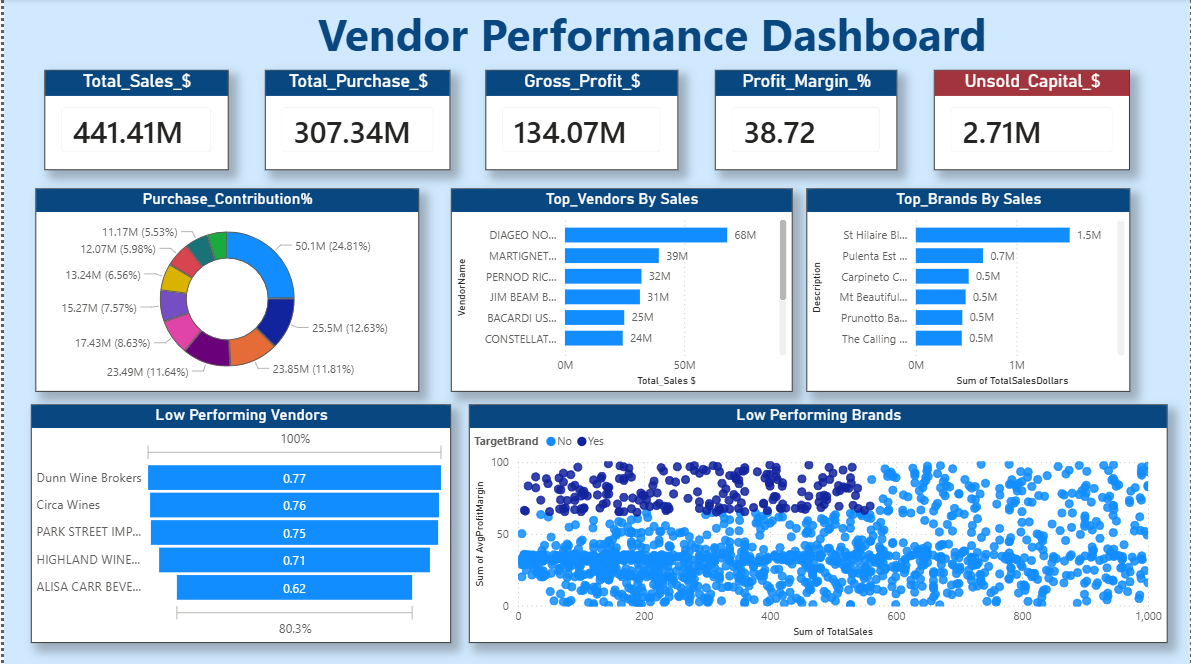

This screenshot's page, from the dashboard's own definition file:
{"tool":"powerbi","page":{"name":"Vendor_Performance_Dashboard","canvas":[1280,720],"ordinal":0},"visuals":[{"type":"cardVisual","title":"Total_Sales_$","fields":{"Data":["Sum(BrandPerformance.TotalSales)"]},"box":[43.5,77.5,198.4,107.7],"z":0},{"type":"cardVisual","title":"Total_Purchase_$","fields":{"Data":["Sum(PurchaseContribution.TotalPurchaseDollars)"]},"box":[281.6,77.5,200.3,107.7],"z":1000},{"type":"cardVisual","title":"Gross_Profit_$","fields":{"Data":["Sum(Vendor_Sales_Summary.GrossProfit)"]},"box":[519.7,77.5,207.9,107.7],"z":2000},{"type":"cardVisual","title":"Profit_Margin_%","fields":{"Data":["Avg(Vendor_Sales_Summary.ProfitMargin)"]},"box":[767.2,77.5,196.5,107.7],"z":3000},{"type":"cardVisual","title":"Unsold_Capital_$","fields":{"Data":["Sum(Vendor_Sales_Summary.UnsoldInventoryValue)"]},"box":[1003.5,77.5,211.7,107.7],"z":4000},{"type":"donutChart","title":"Purchase_Contribution%","fields":{"Category":["PurchaseContribution.VendorName"],"Y":["Sum(PurchaseContribution.TotalPurchaseDollars)"]},"box":[34,206,413.9,219.2],"z":5000},{"type":"funnel","title":"Low Performing Vendors","fields":{"Category":["LowTurnoverVendor.VendorName"],"Y":["Sum(LowTurnoverVendor.AvgStockTurnOver)"]},"box":[28.3,438.4,453.5,257],"z":6000},{"type":"scatterChart","title":"Low Performing Brands","fields":{"Category":["BrandPerformance.Description"],"X":["Sum(BrandPerformance.TotalSales)"],"Y":["Sum(BrandPerformance.AvgProfitMargin)"],"Series":["BrandPerformance.TargetBrand"]},"box":[502.7,438.4,754,257],"z":7000},{"type":"barChart","title":"Top_Vendors By Sales","fields":{"Category":["PurchaseContribution.VendorName"],"Y":["Vendor_Sales_Summary.Total_Sales $"]},"box":[481.9,206,368.5,219.2],"z":8000},{"type":"barChart","title":"Top_Brands By Sales","fields":{"Category":["BrandPerformance.Description"],"Y":["Sum(Vendor_Sales_Summary.TotalSalesDollars)"]},"box":[865.5,206,349.6,219.2],"z":9000},{"type":"textbox","box":[119.1,0,1160.3,77.5],"z":10000}]}

Visuals, with their boxes in screenshot pixels (x1, y1, x2, y2), scaled from the page's 1280x720 canvas onto the 1191x664 screenshot:
"Total_Sales_$" cardVisual: (left=40, top=71, right=225, bottom=171)
"Total_Purchase_$" cardVisual: (left=262, top=71, right=448, bottom=171)
"Gross_Profit_$" cardVisual: (left=484, top=71, right=677, bottom=171)
"Profit_Margin_%" cardVisual: (left=714, top=71, right=897, bottom=171)
"Unsold_Capital_$" cardVisual: (left=934, top=71, right=1131, bottom=171)
"Purchase_Contribution%" donutChart: (left=32, top=190, right=417, bottom=392)
"Low Performing Vendors" funnel: (left=26, top=404, right=448, bottom=641)
"Low Performing Brands" scatterChart: (left=468, top=404, right=1169, bottom=641)
"Top_Vendors By Sales" barChart: (left=448, top=190, right=791, bottom=392)
"Top_Brands By Sales" barChart: (left=805, top=190, right=1131, bottom=392)
textbox: (left=111, top=0, right=1190, bottom=71)
